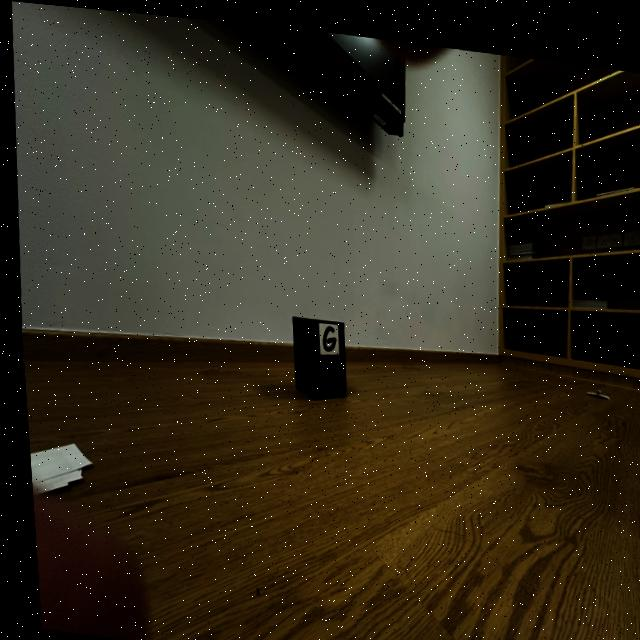G: (318, 318, 333, 347)
